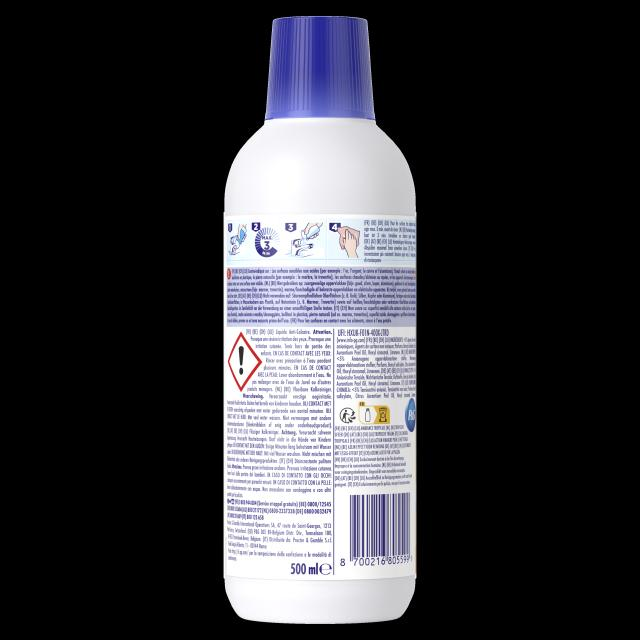GHS_Symbol_EXCLAMATION_MARK: (228, 332, 262, 392)
